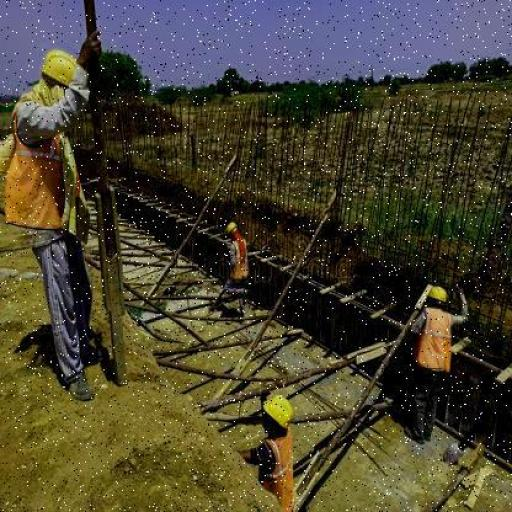person: (1, 47, 122, 412), (382, 282, 476, 458), (225, 380, 304, 512), (207, 220, 258, 316)
safety_shoe: (60, 366, 96, 408), (82, 341, 114, 367), (402, 419, 424, 450), (244, 287, 248, 312)
